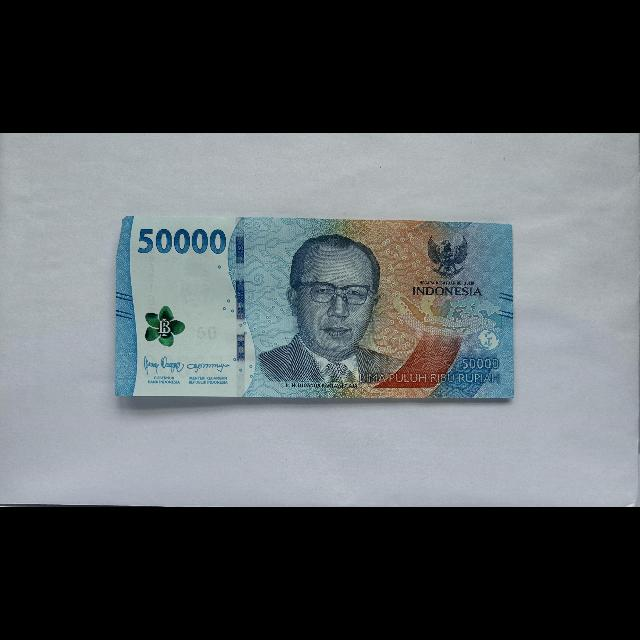Asli-50k: (113, 215, 515, 402)
Tinta-Asli-50k: (144, 305, 186, 348)
